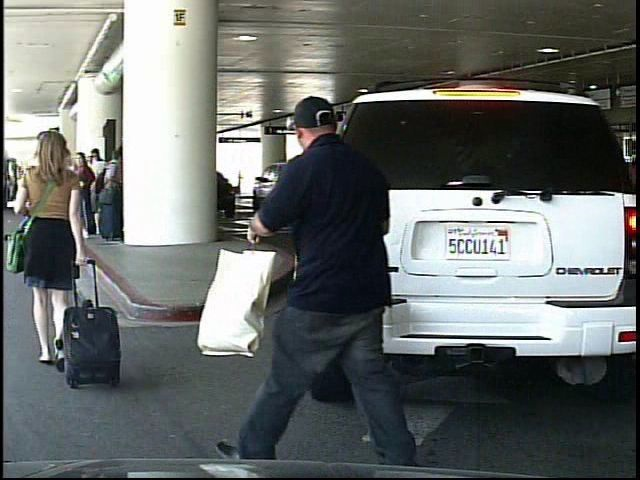person: (259, 87, 420, 467), (5, 125, 100, 399)
